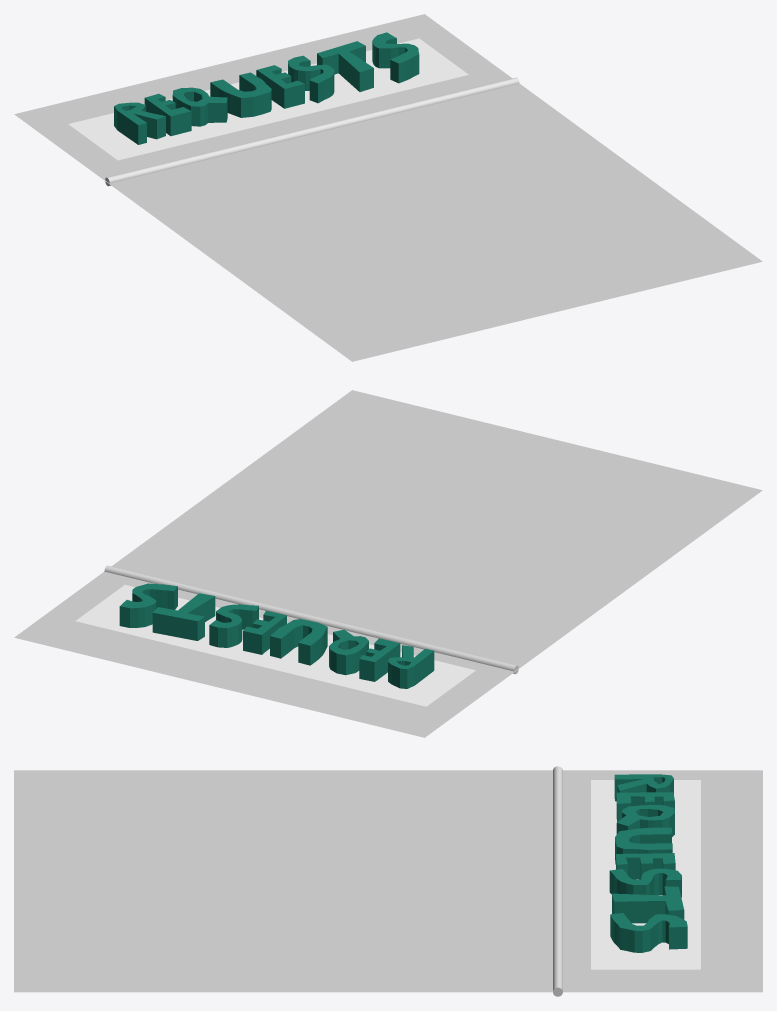
The model's file is Requests.glb.
3 renders of one model, top to bottom at view 1: azimuth 30°, elevation 25°; view 2: azimuth 150°, elevation 25°; view 3: azimuth 270°, elevation 25°, orthographic. The views are drawn at different scales.
Visible parts, largest first — view 1: Plane.021, Plane.024, Plane.025, Cylinder.006; view 2: Plane.021, Plane.024, Plane.025, Cylinder.006; view 3: Plane.021, Plane.024, Plane.025, Cylinder.006.
Boxes of the visible parts, bbox=[...] form: Plane.021: bbox=[14, 14, 762, 361]; Plane.024: bbox=[114, 32, 419, 144]; Plane.025: bbox=[68, 38, 468, 160]; Cylinder.006: bbox=[105, 77, 519, 186]; Plane.021: bbox=[14, 390, 762, 737]; Plane.024: bbox=[119, 583, 434, 688]; Plane.025: bbox=[75, 584, 475, 706]; Cylinder.006: bbox=[104, 565, 518, 674]; Plane.021: bbox=[14, 770, 762, 992]; Plane.024: bbox=[609, 774, 687, 952]; Plane.025: bbox=[591, 780, 700, 969]; Cylinder.006: bbox=[553, 766, 562, 996].
Size of the model in its own units: 9.1 by 0.598 by 12.99.
